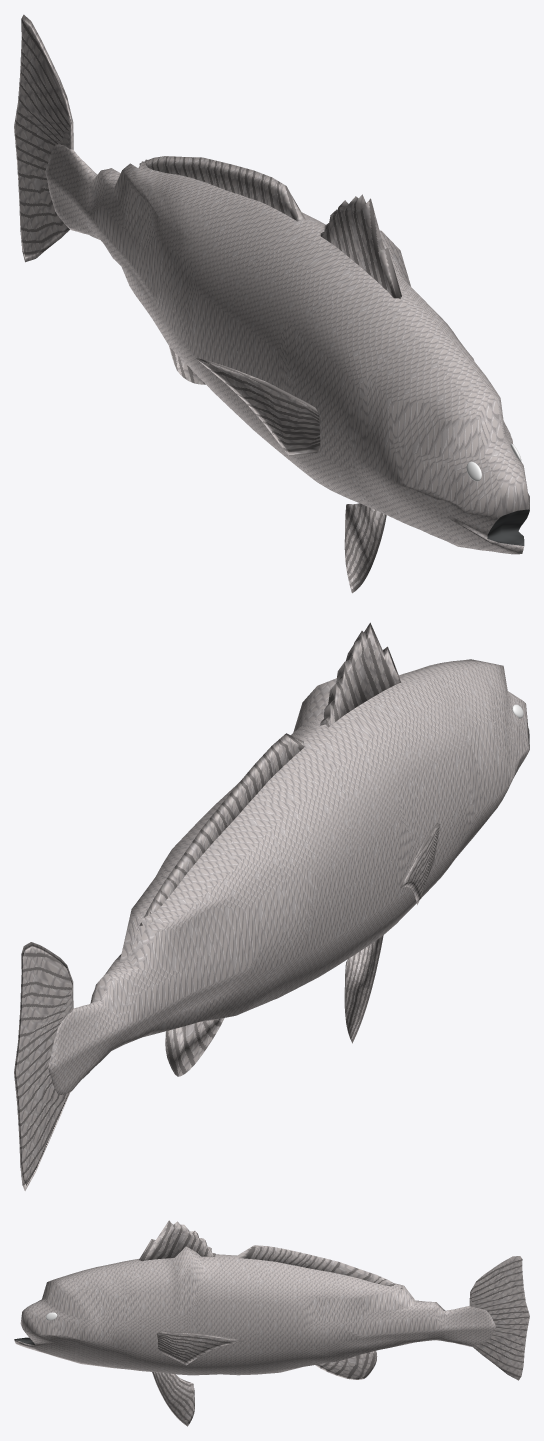
The model's file is carpa.fbx.
3 renders of one model, top to bottom at view 1: azimuth 30°, elevation 25°; view 2: azimuth 150°, elevation 25°; view 3: azimuth 270°, elevation 25°, orthographic. The views are drawn at different scales.
Parts seen in each view (by area): view 1: Totoaba, Point.001; view 2: Totoaba, Point.001; view 3: Totoaba, Point.001.
Boxes of the visible parts, bbox=[...] form: Totoaba: bbox=[45, 144, 529, 554]; Point.001: bbox=[14, 14, 401, 593]; Totoaba: bbox=[48, 659, 529, 1094]; Point.001: bbox=[14, 622, 440, 1190]; Totoaba: bbox=[14, 1246, 495, 1375]; Point.001: bbox=[139, 1220, 529, 1426].
Bounding box in the file's own units: 243 × 457 × 1034.
